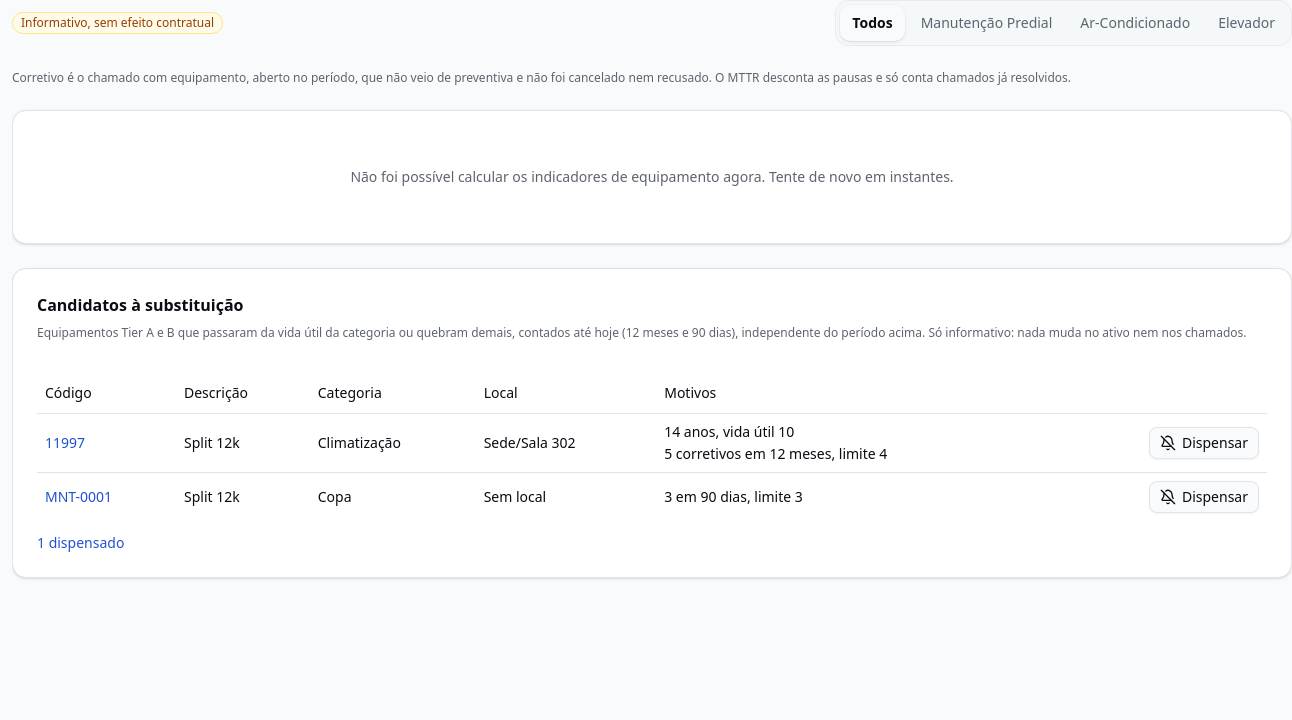
Test case: ImrAtivos: candidatos à substituição › o tipo filtra os candidatos; categoria sem subtipo fica só em Todos
Click the button "Ar-Condicionado" at (1135, 23), box [1068, 5, 1202, 41]
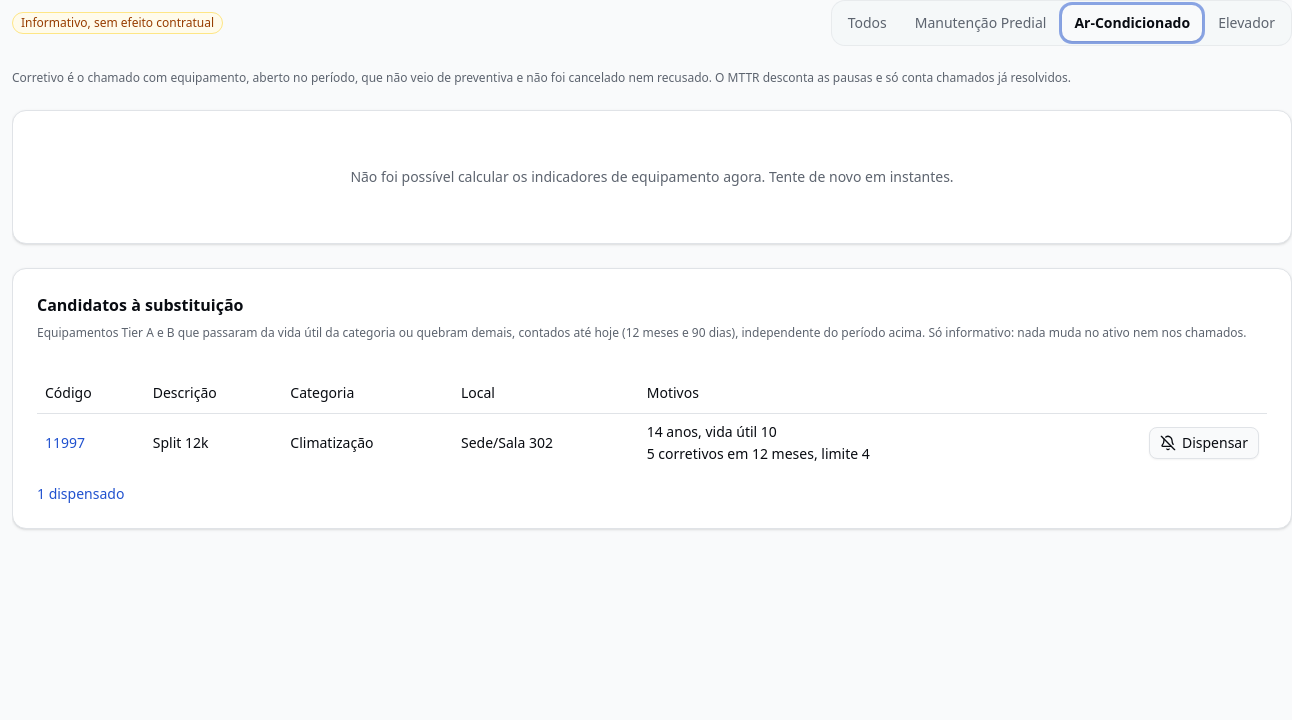
Expected: the link "11997" is shown, [45, 432, 85, 452]
Result: the link "MNT-0001" is gone
Click the button "Elevador" at (1247, 23), box [1206, 5, 1287, 41]
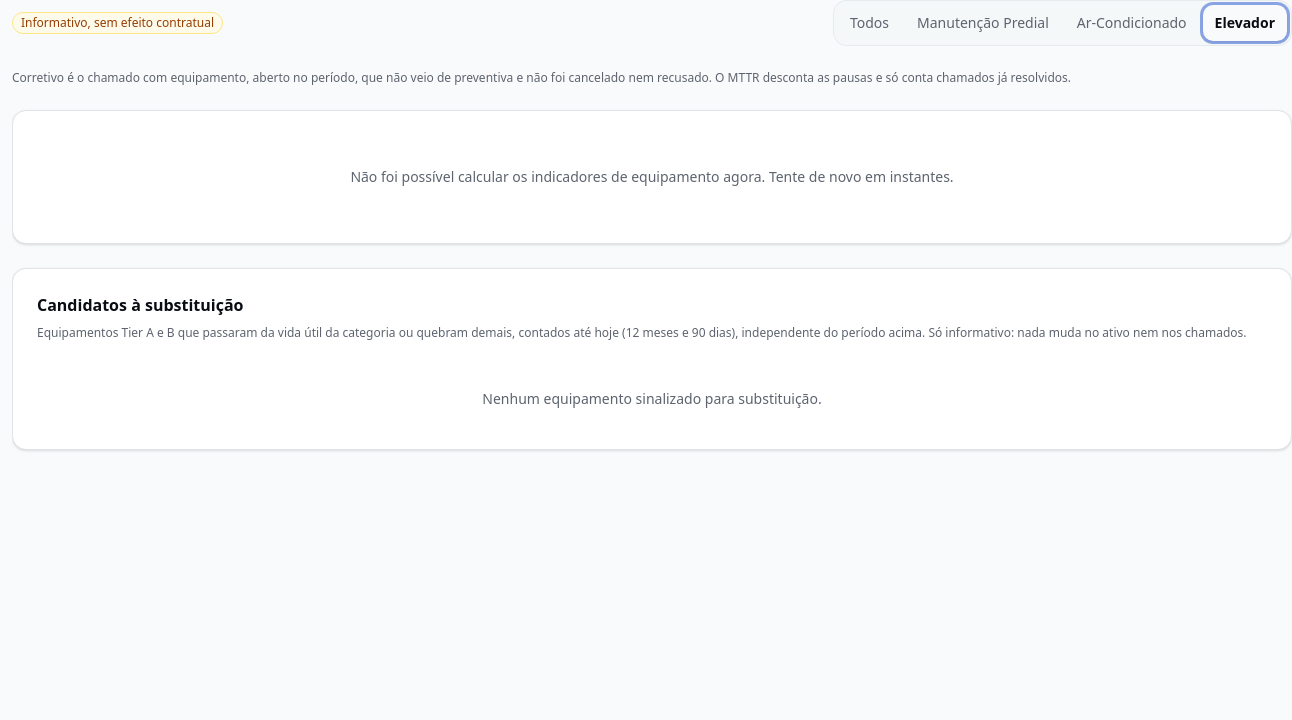
Result: the text "Nenhum equipamento sinalizado para substituição." is shown at [482, 389, 822, 408]
Result: the link "dispensado" is gone
